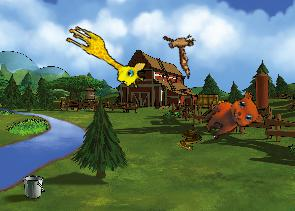bear: (198, 84, 268, 152)
eagle: (152, 21, 211, 79)
giraffe: (58, 22, 151, 92)
